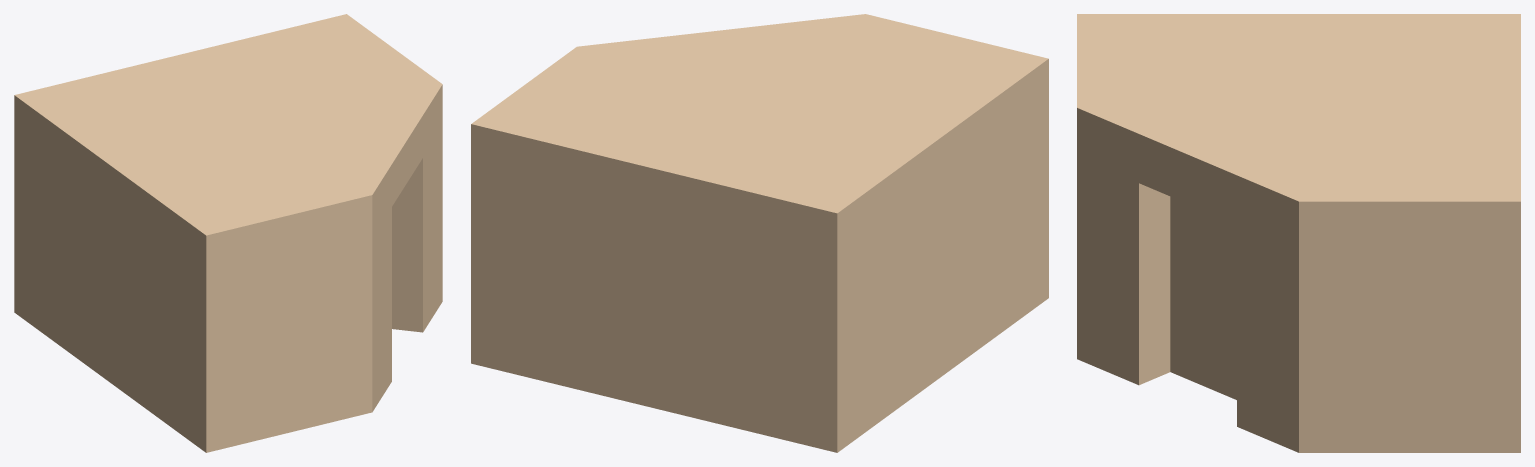
The model's file is building-corner-window-top-square.obj.
The picture shows the model from 3 angles, left to right: view 1: azimuth 30°, elevation 25°; view 2: azimuth 150°, elevation 25°; view 3: azimuth 270°, elevation 25°; orthographic projection. The views are drawn at different scales.
Size of the model in its own units: 1 by 0.625 by 1.
